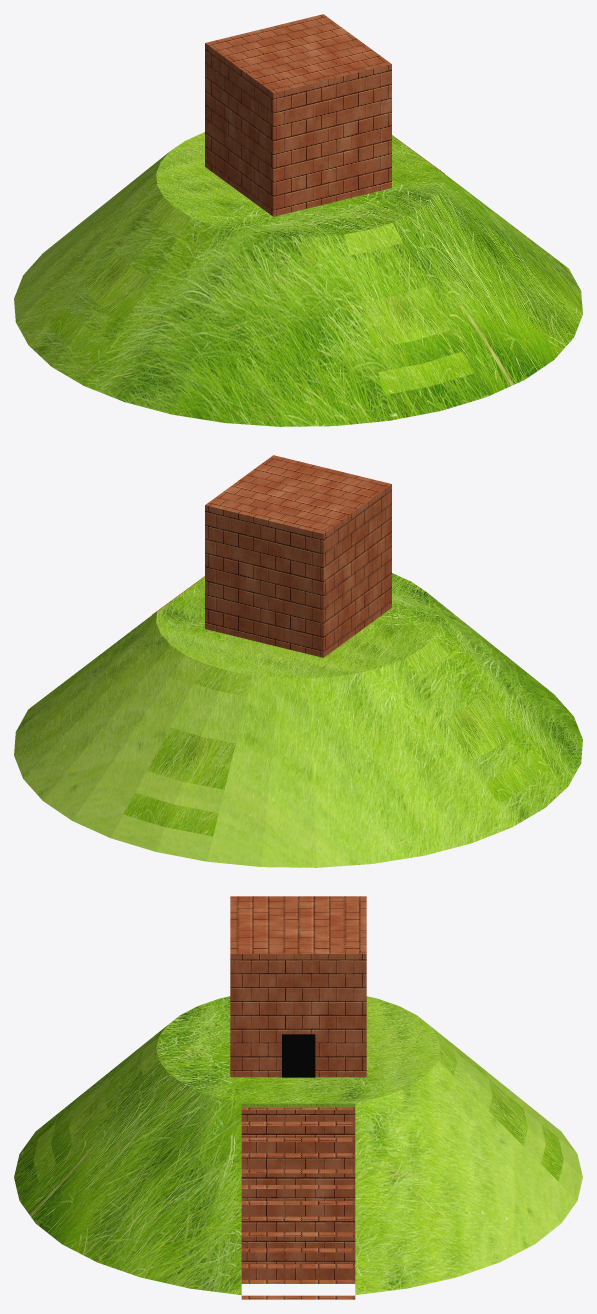
Rendered from MainStage.fbx.
3 views of the same model, one above another, from view 1: azimuth 30°, elevation 25°; view 2: azimuth 150°, elevation 25°; view 3: azimuth 270°, elevation 25° (orthographic).
Parts seen in each view (by area): view 1: Cone, BossRoom; view 2: Cone, BossRoom; view 3: Cone, BossRoom, Stairs, Gate_Back.
Boxes of the visible parts, x1=… form: Cone: x1=14, y1=132, x2=582, y2=426; BossRoom: x1=205, y1=14, x2=391, y2=216; Cone: x1=14, y1=573, x2=582, y2=867; BossRoom: x1=205, y1=455, x2=391, y2=657; Cone: x1=14, y1=996, x2=582, y2=1295; BossRoom: x1=230, y1=896, x2=366, y2=1077; Stairs: x1=241, y1=1107, x2=355, y2=1299; Gate_Back: x1=282, y1=1034, x2=315, y2=1077.
Size of what is drawn, in the model's own units: 9896 by 5201 by 10000.
Materials: 4 (3 with a texture image).
